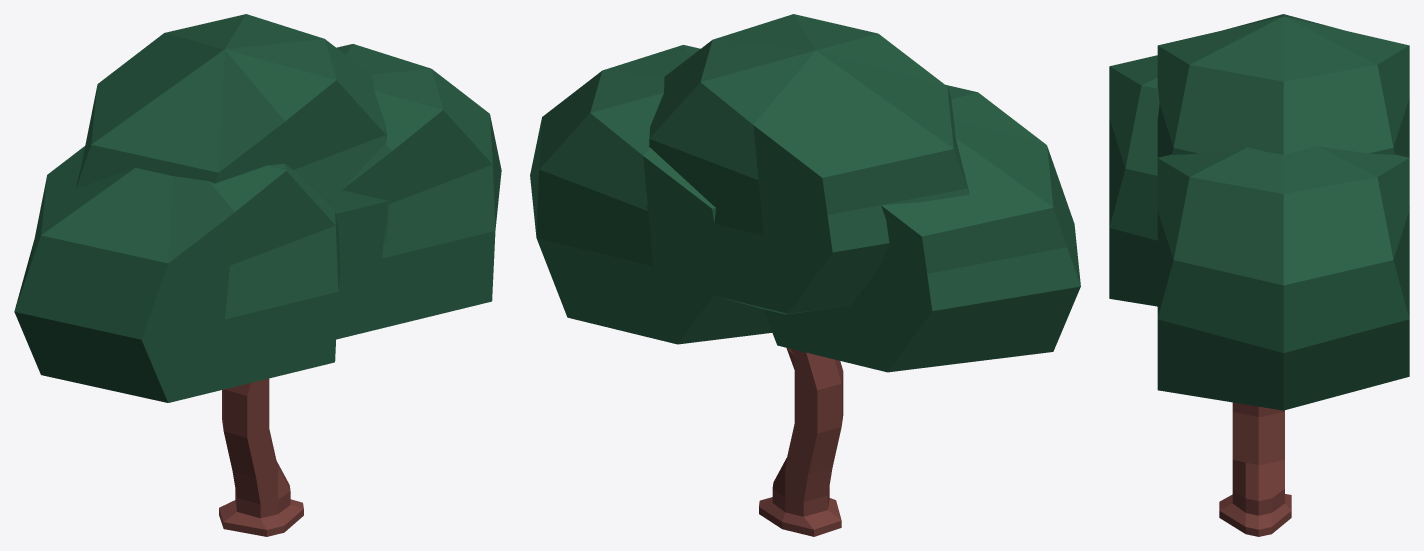
File: wide_tree.gltf
3 views of the same model, side by side, from view 1: azimuth 30°, elevation 25°; view 2: azimuth 150°, elevation 25°; view 3: azimuth 270°, elevation 25° (orthographic). The views are drawn at different scales.
Visible parts, largest first — view 1: small tree (×3), cylinder; view 2: small tree (×3), cylinder; view 3: small tree (×3), cylinder.
Part boxes in pixels (x1=…): small tree (×3): x1=14, y1=14, x2=501, y2=402; cylinder: x1=219, y1=378, x2=303, y2=536; small tree (×3): x1=530, y1=14, x2=1080, y2=372; cylinder: x1=759, y1=348, x2=843, y2=536; small tree (×3): x1=1109, y1=14, x2=1409, y2=410; cylinder: x1=1219, y1=402, x2=1291, y2=536.
Size of the model in its own units: 1.2 by 1.05 by 0.5848.
Materials: 2 (2 with a texture image).
